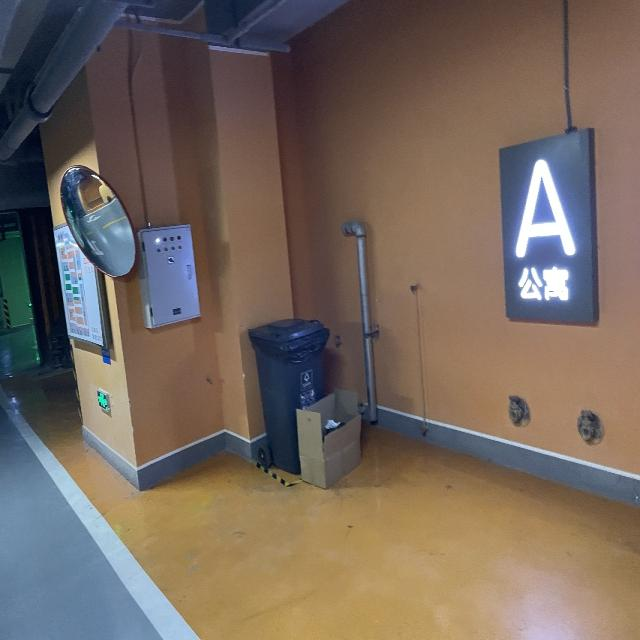garbage: (294, 386, 360, 490)
garbage_bin: (248, 318, 329, 473)
